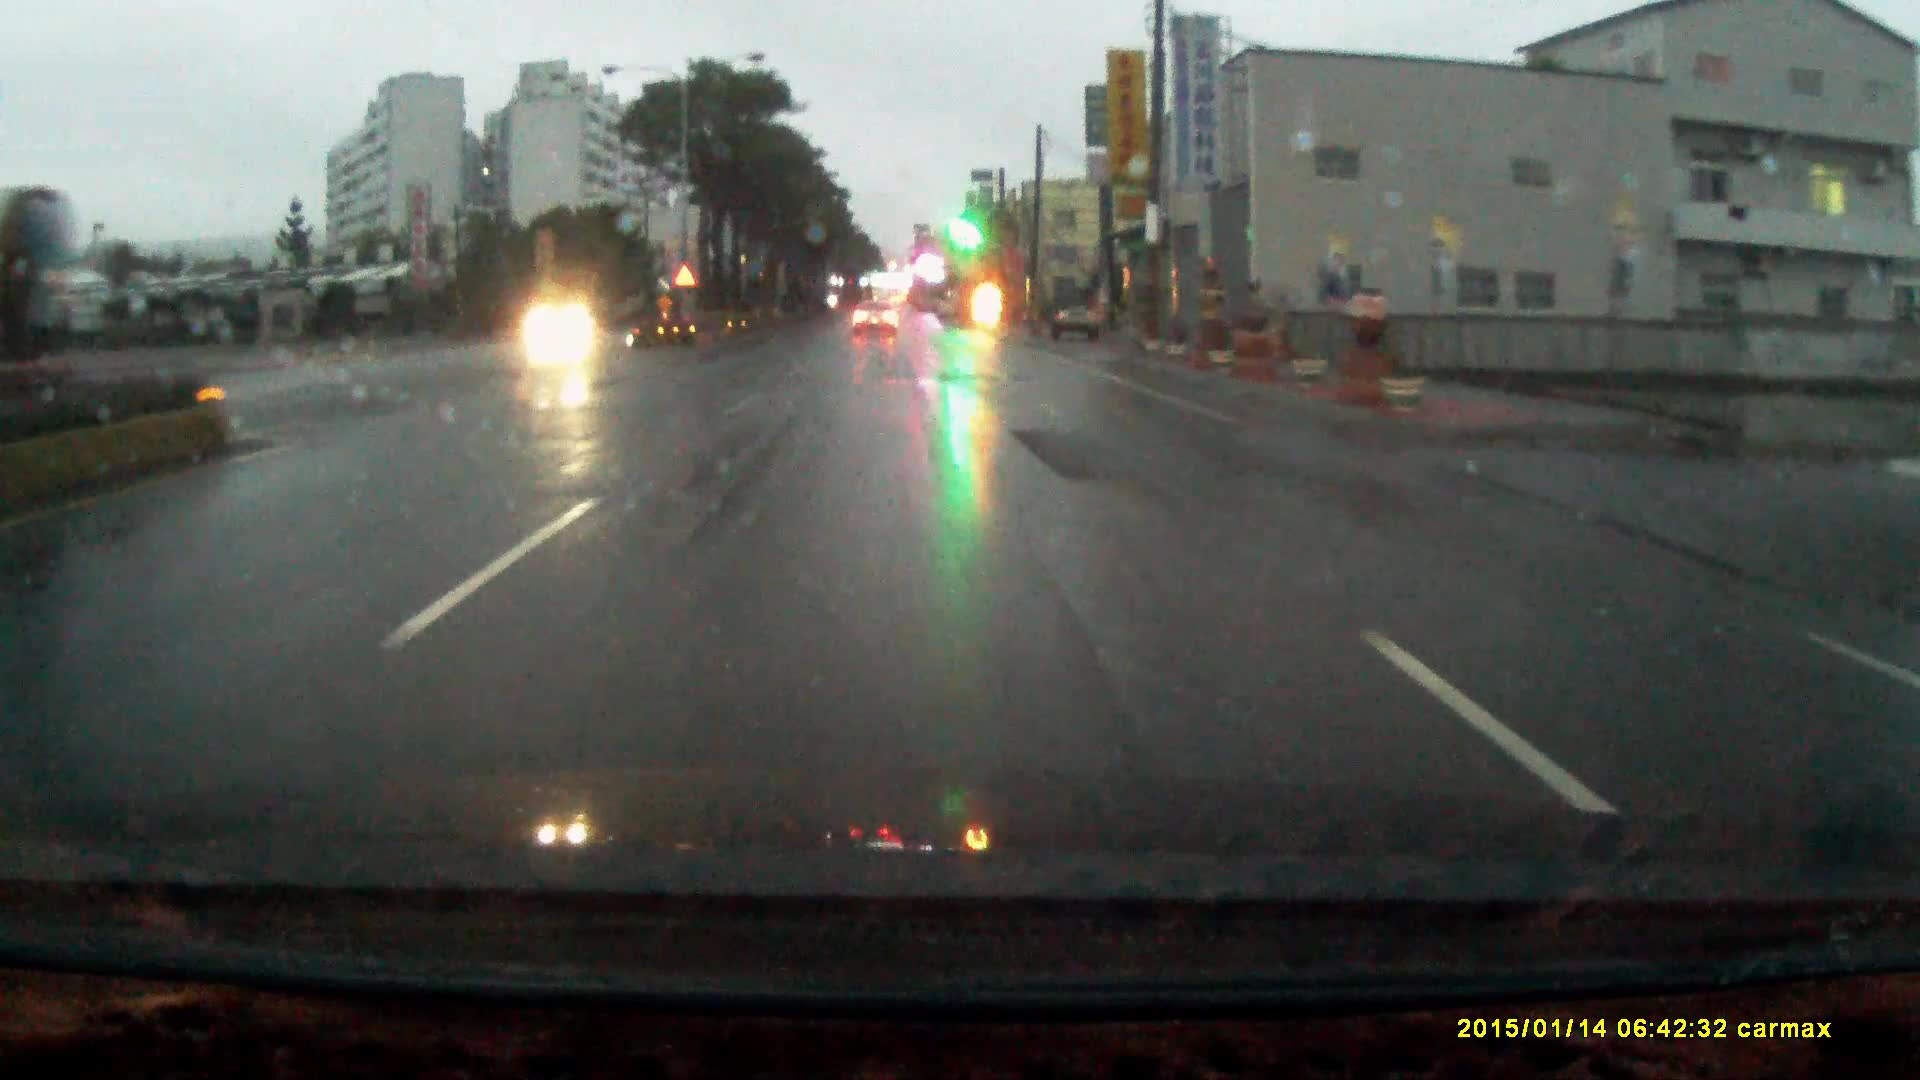vehicle: (1054, 287, 1108, 342), (852, 303, 901, 339)
